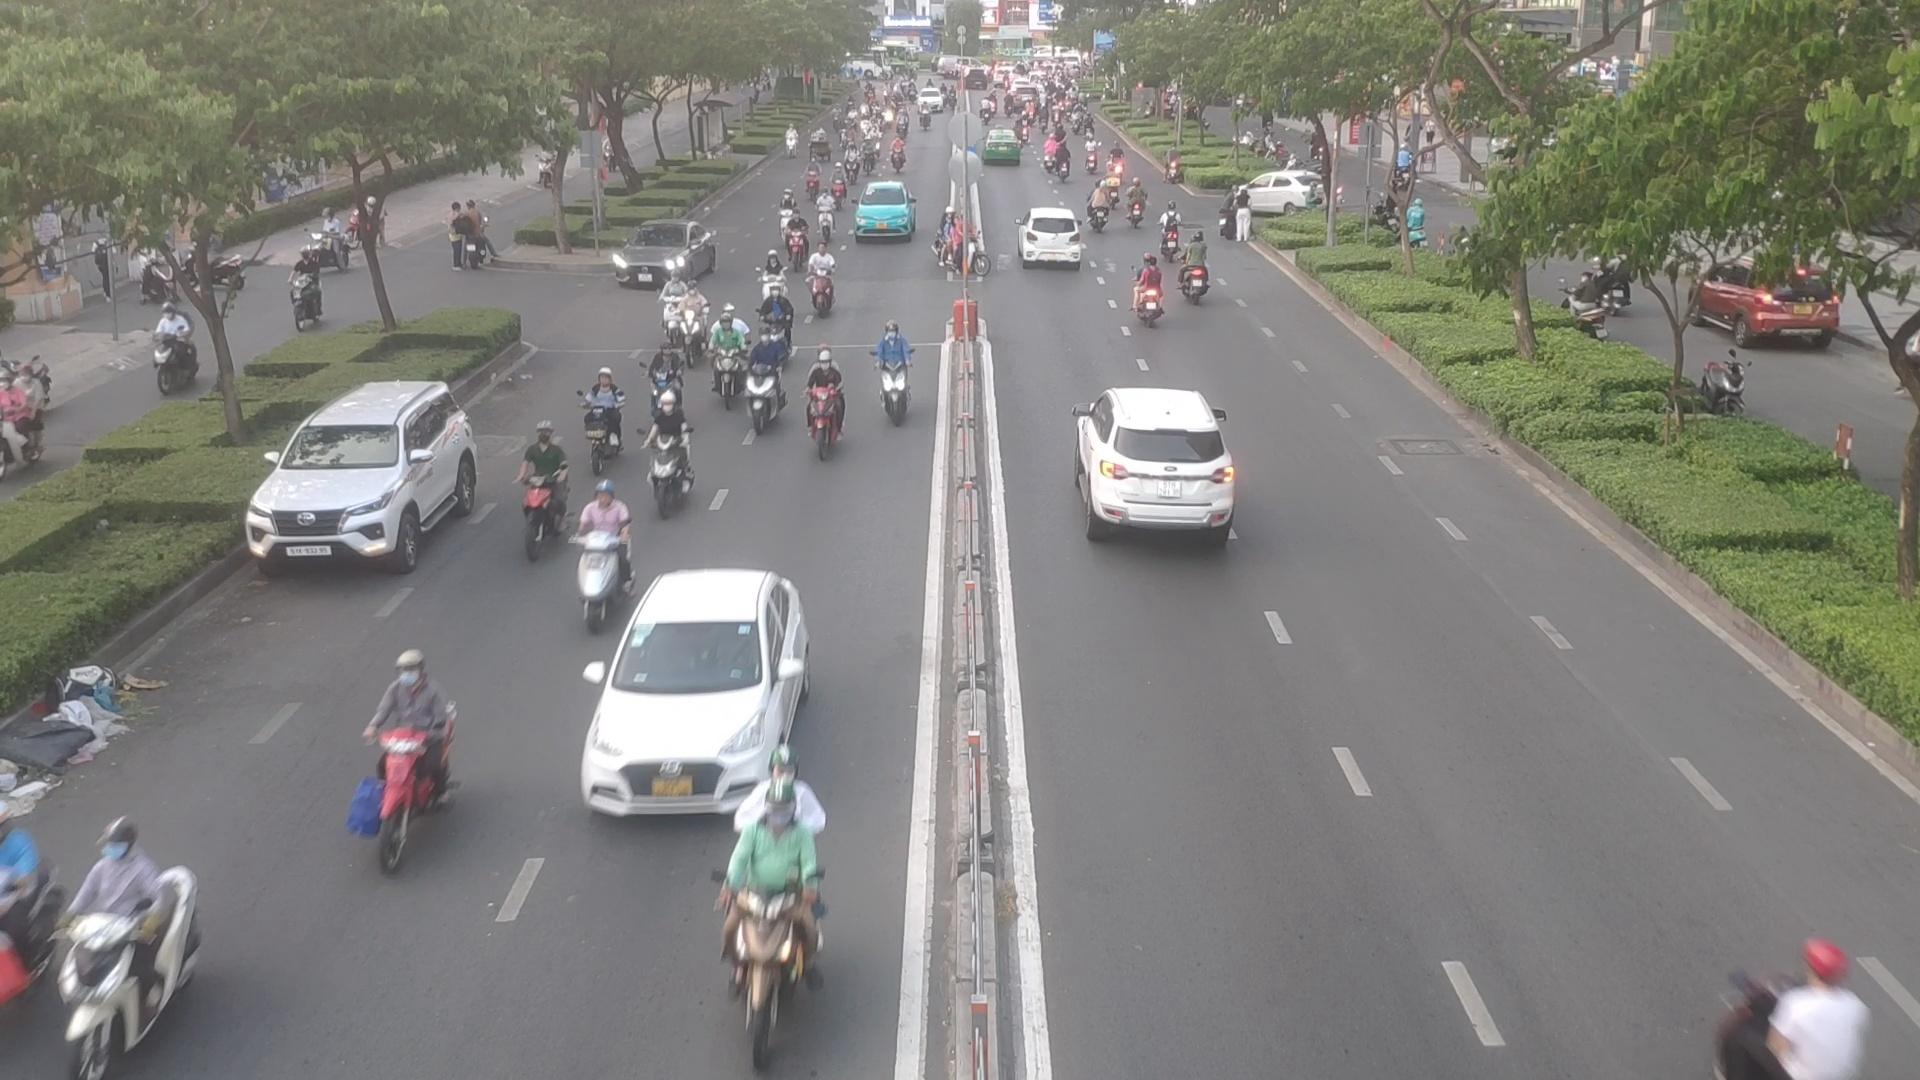car: (574, 564, 818, 820), (245, 382, 488, 578), (1080, 392, 1240, 534), (613, 222, 717, 291), (1017, 204, 1088, 268), (1229, 171, 1325, 218), (855, 182, 919, 241)
motorbike: (711, 727, 843, 1075), (1662, 915, 1887, 1080), (73, 827, 196, 1080), (351, 661, 440, 825), (574, 525, 637, 629), (514, 426, 571, 541), (579, 356, 626, 473), (864, 313, 914, 415), (667, 278, 727, 363), (746, 320, 785, 436), (654, 389, 687, 524), (808, 345, 845, 458), (704, 305, 742, 406), (1182, 232, 1218, 314), (948, 215, 994, 273), (640, 340, 679, 407), (752, 241, 793, 305), (808, 241, 836, 327), (1130, 260, 1164, 322), (764, 284, 794, 351), (785, 218, 814, 270), (1084, 182, 1113, 233), (1127, 175, 1154, 228), (657, 286, 682, 340), (775, 193, 799, 243), (808, 187, 829, 237), (1163, 204, 1184, 253)
